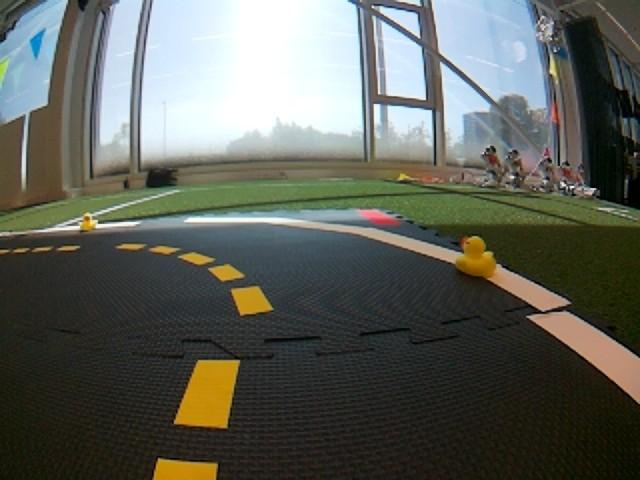Duckies: (457, 236, 495, 275), (78, 213, 96, 229)
